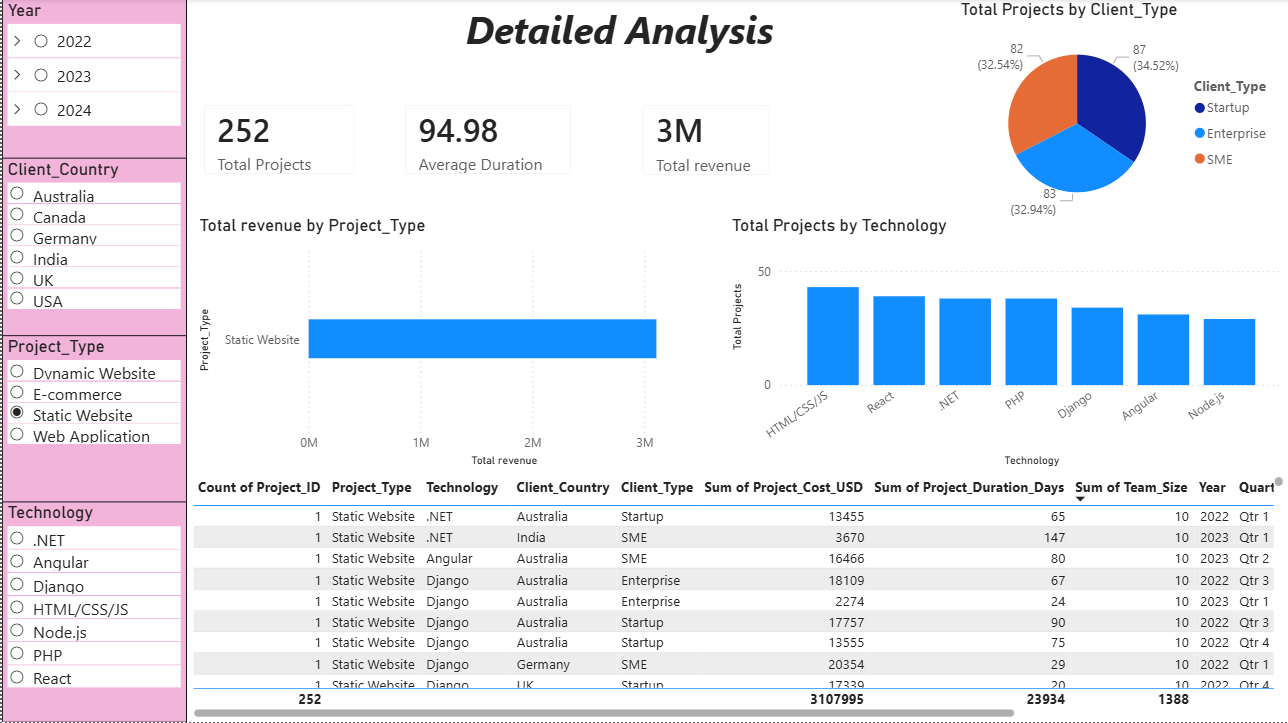

This screenshot's page, from the dashboard's own definition file:
{"tool":"powerbi","page":{"name":"detailed analysis","canvas":[1280,720],"ordinal":1},"visuals":[{"type":"textbox","box":[456.5,0,327.2,65.9],"z":1000},{"type":"listSlicer","fields":{"Values":["prolixon project data.Start_Date.Variation.Date Hierarchy.Year","prolixon project data.Start_Date.Variation.Date Hierarchy.Quarter","prolixon project data.Start_Date.Variation.Date Hierarchy.Month","prolixon project data.Start_Date.Variation.Date Hierarchy.Day"]},"box":[0,0,184.1,308.5],"z":1001},{"type":"listSlicer","fields":{"Values":["prolixon project data.Client_Country"]},"box":[0,158,184.1,204],"z":1002},{"type":"listSlicer","fields":{"Values":["prolixon project data.Project_Type"]},"box":[0,334.6,184.1,204],"z":1003},{"type":"listSlicer","fields":{"Values":["prolixon project data.Technology"]},"box":[0,500.1,184.1,220.2],"z":1004},{"type":"cardVisual","fields":{"Data":["prolixon project data.Total Projects"]},"box":[184.1,88.3,184.1,103.2],"z":1005},{"type":"cardVisual","fields":{"Data":["prolixon project data.Total revenue"]},"box":[620.7,88.3,160.5,104.5],"z":1006},{"type":"cardVisual","fields":{"Data":["prolixon project data.Average Duration"]},"box":[384.4,88.3,199,103.2],"z":1008},{"type":"clusteredBarChart","fields":{"Category":["prolixon project data.Project_Type"],"Y":["prolixon project data.Total revenue"]},"box":[191.6,215.2,517.5,255],"z":1009},{"type":"clusteredColumnChart","fields":{"Category":["prolixon project data.Technology"],"Y":["prolixon project data.Total Projects"]},"box":[721.5,215.2,558.5,255],"z":1010},{"type":"pieChart","fields":{"Category":["prolixon project data.Client_Type"],"Y":["prolixon project data.Total Projects"]},"box":[949.1,0,330.9,228.9],"z":1011},{"type":"tableEx","fields":{"Values":["CountNonNull(prolixon project data.Project_ID)","prolixon project data.Project_Type","prolixon project data.Technology","prolixon project data.Client_Country","prolixon project data.Client_Type","Sum(prolixon project data.Project_Cost_USD)","Sum(prolixon project data.Project_Duration_Days)","Sum(prolixon project data.Team_Size)","prolixon project data.Start_Date.Variation.Date Hierarchy.Year","prolixon project data.Start_Date.Variation.Date Hierarchy.Quarter","prolixon project data.Start_Date.Variation.Date Hierarchy.Month","prolixon project data.Start_Date.Variation.Date Hierarchy.Day"]},"box":[184.1,470.2,1095.9,250],"z":1012}]}

Visuals, with their boxes in screenshot pixels (x1, y1, x2, y2), scaled from the page's 1280x720 canvas onto the 1288x723 screenshot:
textbox: box(459, 0, 789, 66)
listSlicer - prolixon project data.Start_Date.Variation.Date Hierarchy.Year x prolixon project data.Start_Date.Variation.Date Hierarchy.Quarter: box(0, 0, 185, 310)
listSlicer - prolixon project data.Client_Country: box(0, 159, 185, 364)
listSlicer - prolixon project data.Project_Type: box(0, 336, 185, 541)
listSlicer - prolixon project data.Technology: box(0, 502, 185, 722)
cardVisual - prolixon project data.Total Projects: box(185, 89, 371, 192)
cardVisual - prolixon project data.Total revenue: box(625, 89, 786, 194)
cardVisual - prolixon project data.Average Duration: box(387, 89, 587, 192)
clusteredBarChart - prolixon project data.Project_Type x prolixon project data.Total revenue: box(193, 216, 714, 472)
clusteredColumnChart - prolixon project data.Technology x prolixon project data.Total Projects: box(726, 216, 1287, 472)
pieChart - prolixon project data.Client_Type x prolixon project data.Total Projects: box(955, 0, 1287, 230)
tableEx - CountNonNull(prolixon project data.Project_ID) x prolixon project data.Project_Type: box(185, 472, 1287, 722)
